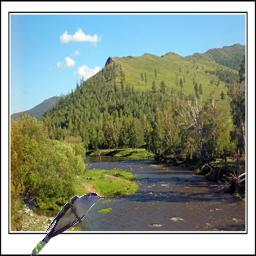Cuckoo: (31, 192, 106, 256)
